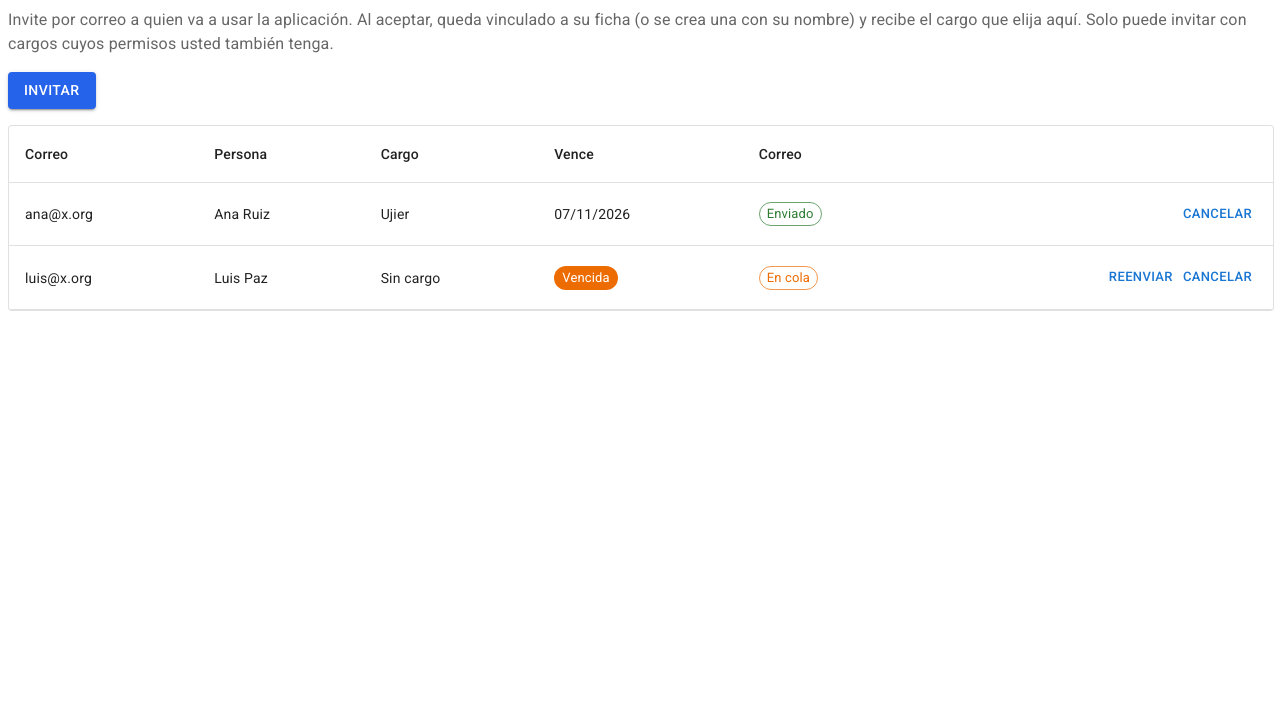
InvitationsPanel › warns when the invitation was saved but the email failed
Click the button "Invitar" at [52, 90], box [8, 72, 96, 108]
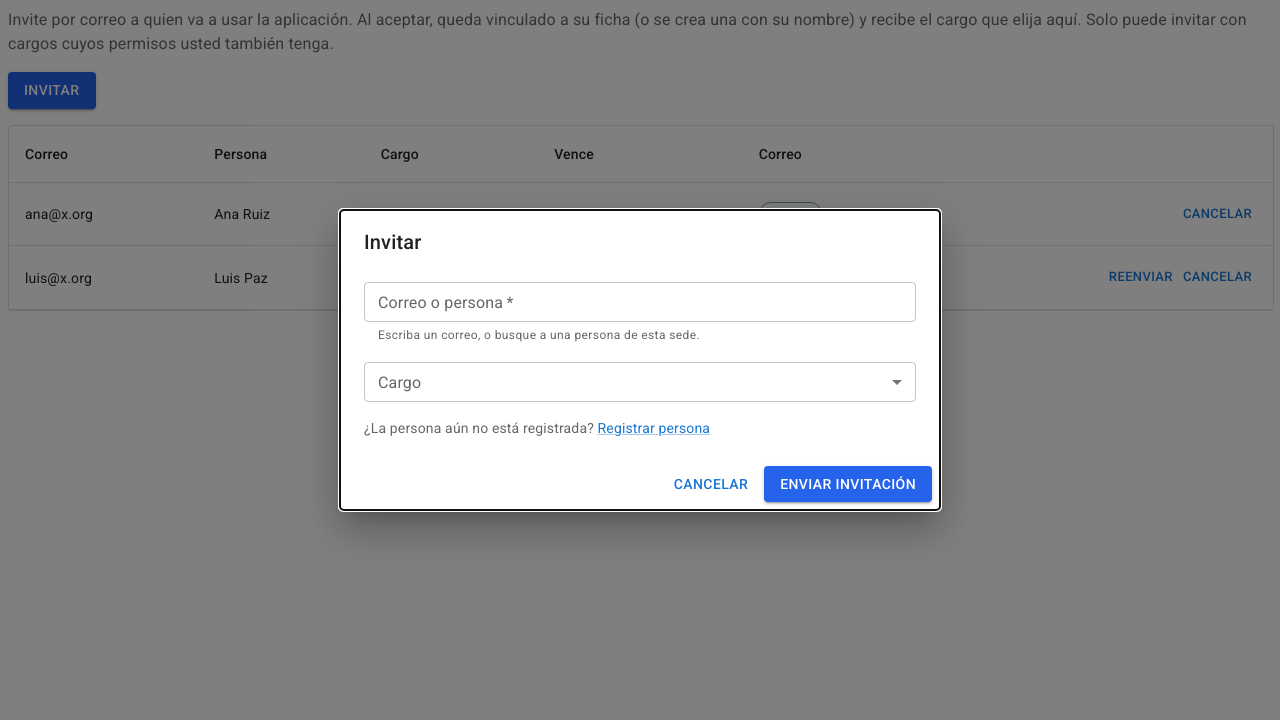
Type "beto@x.org" into the dropdown labelled "Correo o persona *" at [638, 302], box [370, 288, 907, 316]
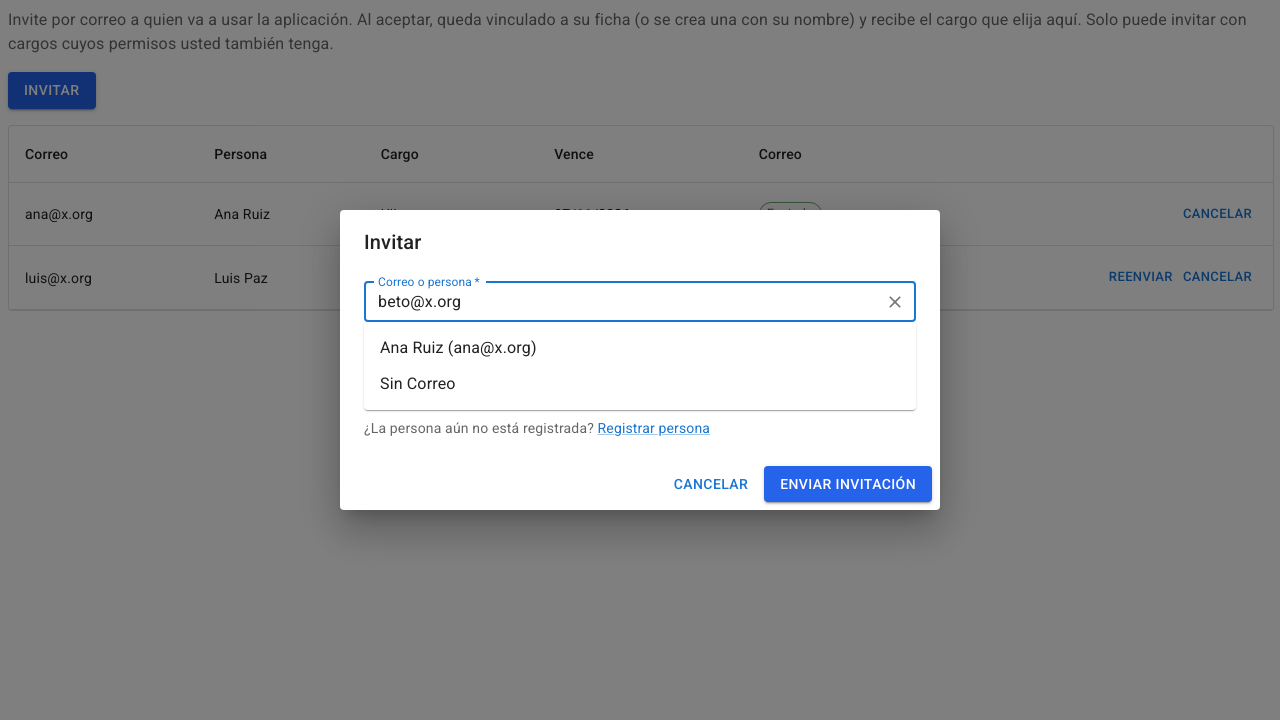
Click the button "Enviar invitación" at [848, 484], box [764, 466, 932, 502]
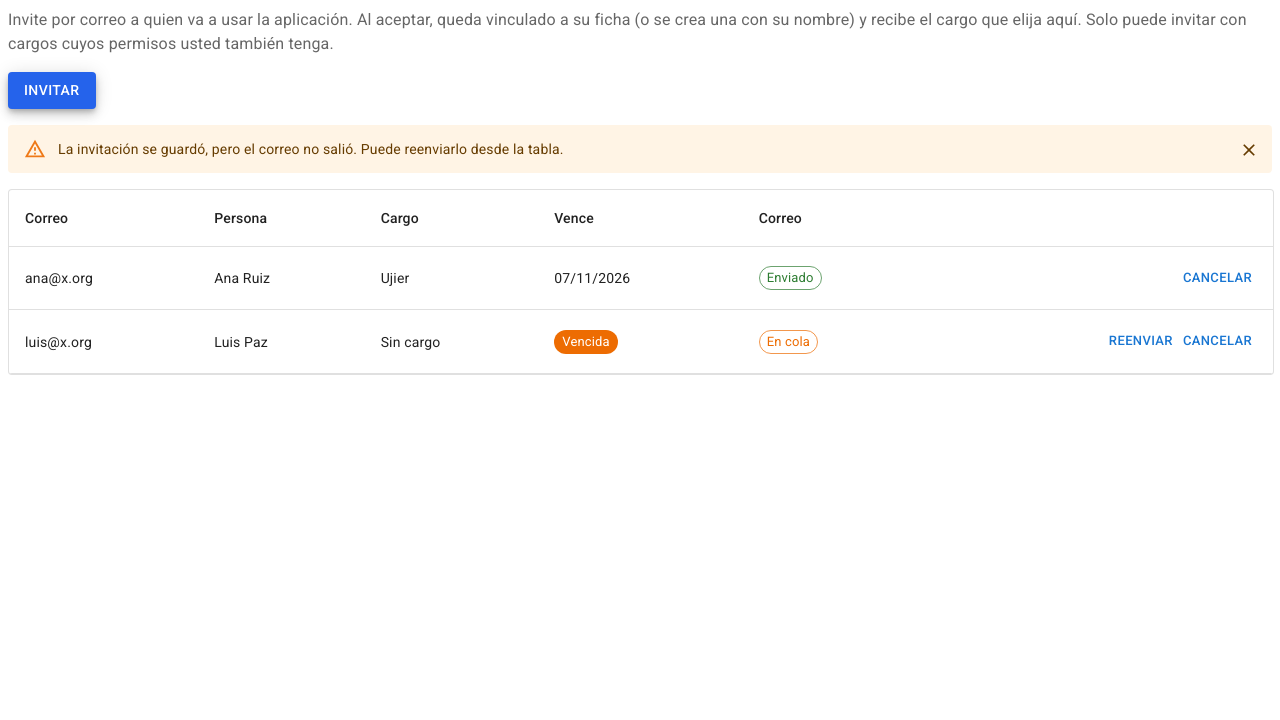
Expected: the text "el correo no salió" is shown, [58, 140, 564, 156]
